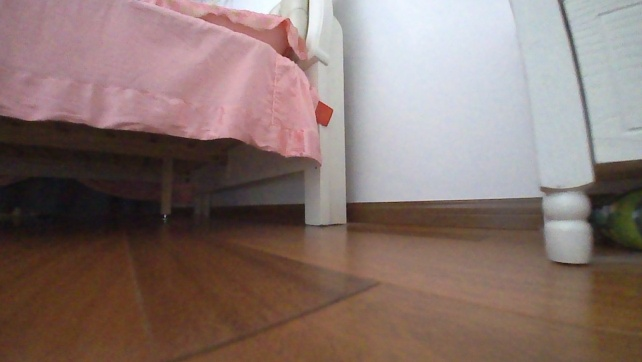bed1: (0, 0, 354, 230)
